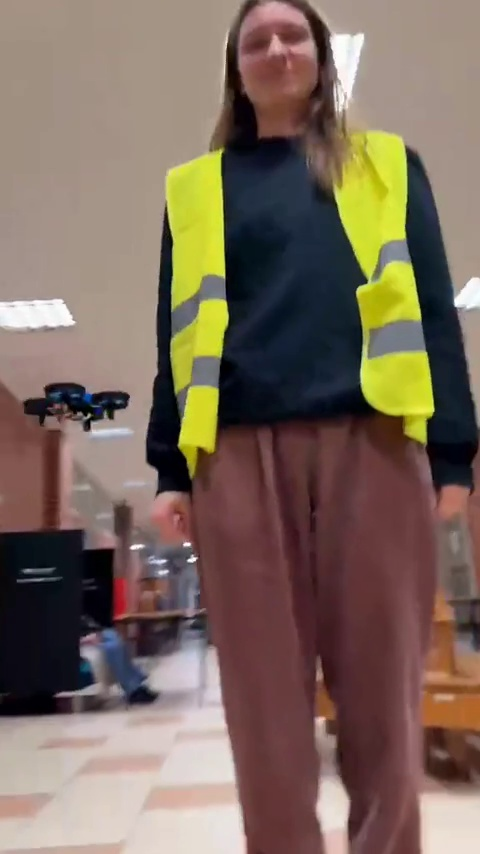drone: (20, 387, 131, 429)
vest: (153, 64, 475, 851)
